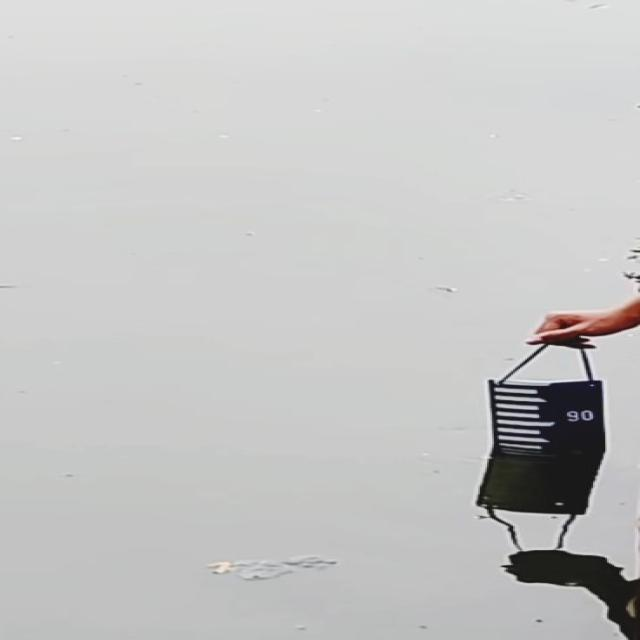water-meter: (473, 370, 618, 490)
